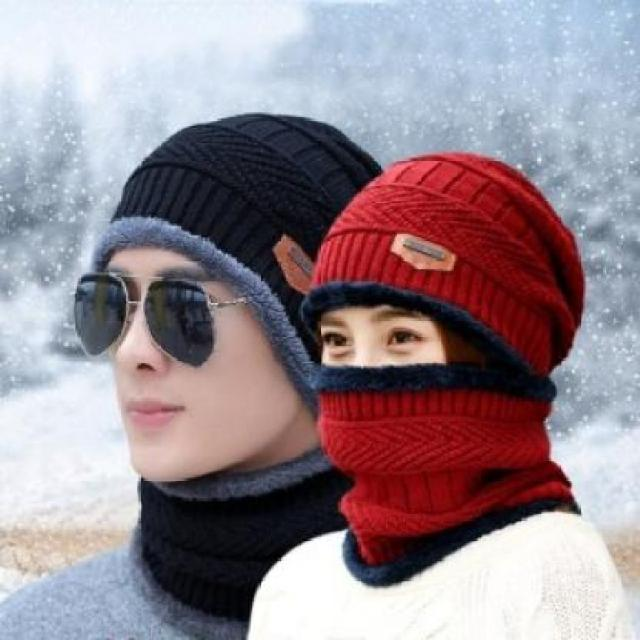hat: (90, 107, 384, 381), (294, 147, 592, 365)
